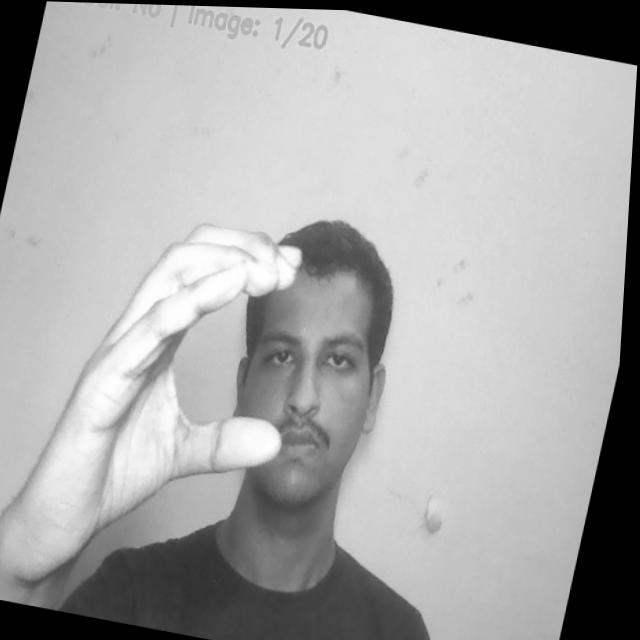No: (0, 190, 330, 584)
